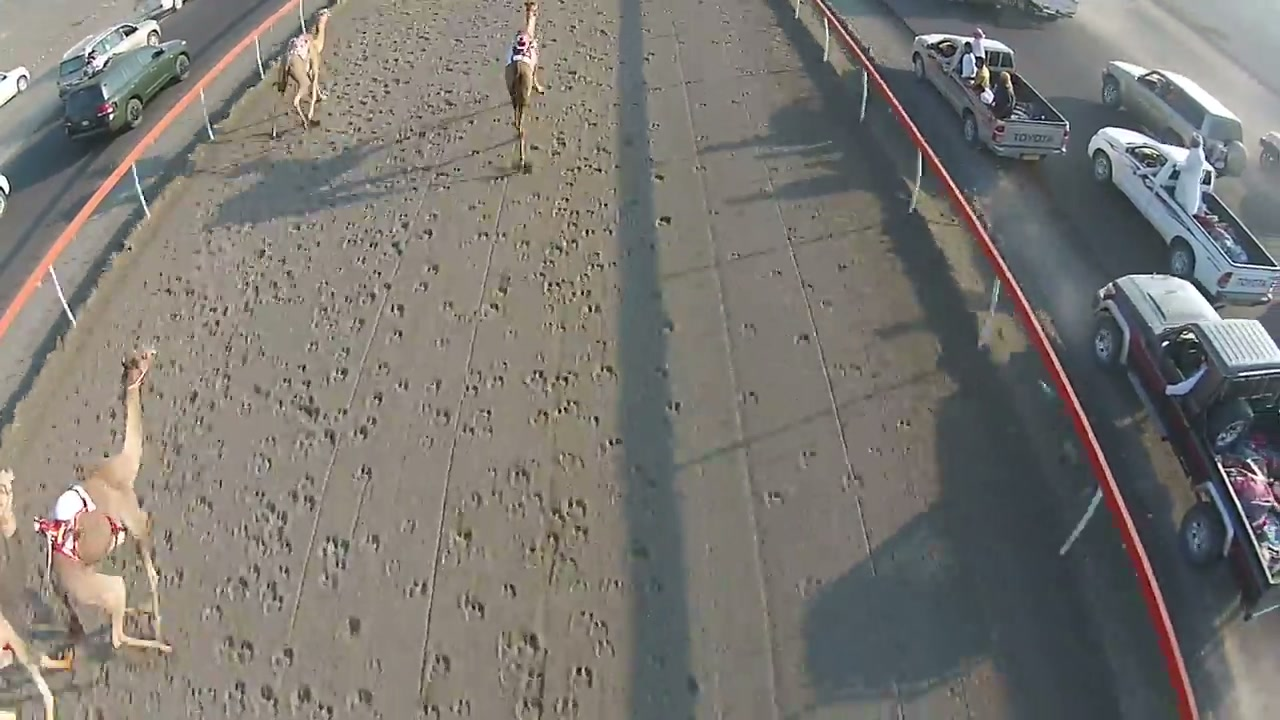animal_foot_print: (224, 72, 424, 719), (439, 109, 613, 688)
